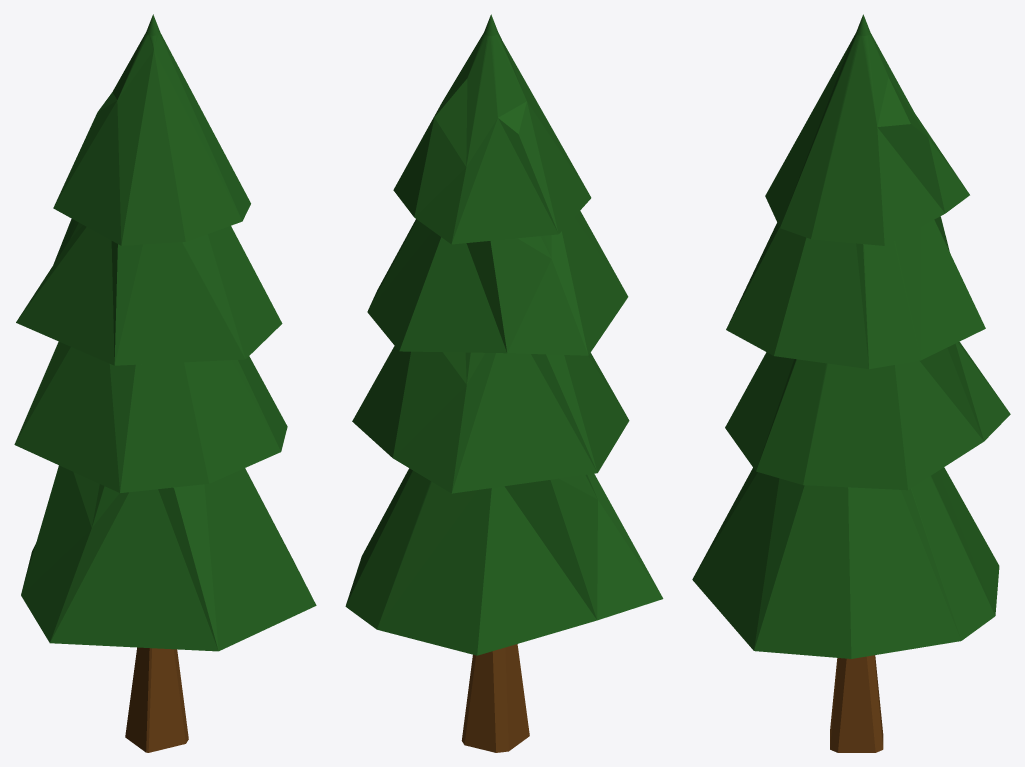
The model's file is pinoalto.fbx.
3 views of the same model, side by side, from view 1: azimuth 30°, elevation 25°; view 2: azimuth 150°, elevation 25°; view 3: azimuth 270°, elevation 25° (orthographic).
Visible parts, largest first — view 1: arbol fino.007; view 2: arbol fino.007; view 3: arbol fino.007.
Boxes of the visible parts, left/top/right/bottom form: arbol fino.007: left=14, top=14, right=316, bottom=752; arbol fino.007: left=345, top=14, right=663, bottom=752; arbol fino.007: left=692, top=14, right=1010, bottom=752.
Size of the model in its own units: 544 by 1383 by 549.
